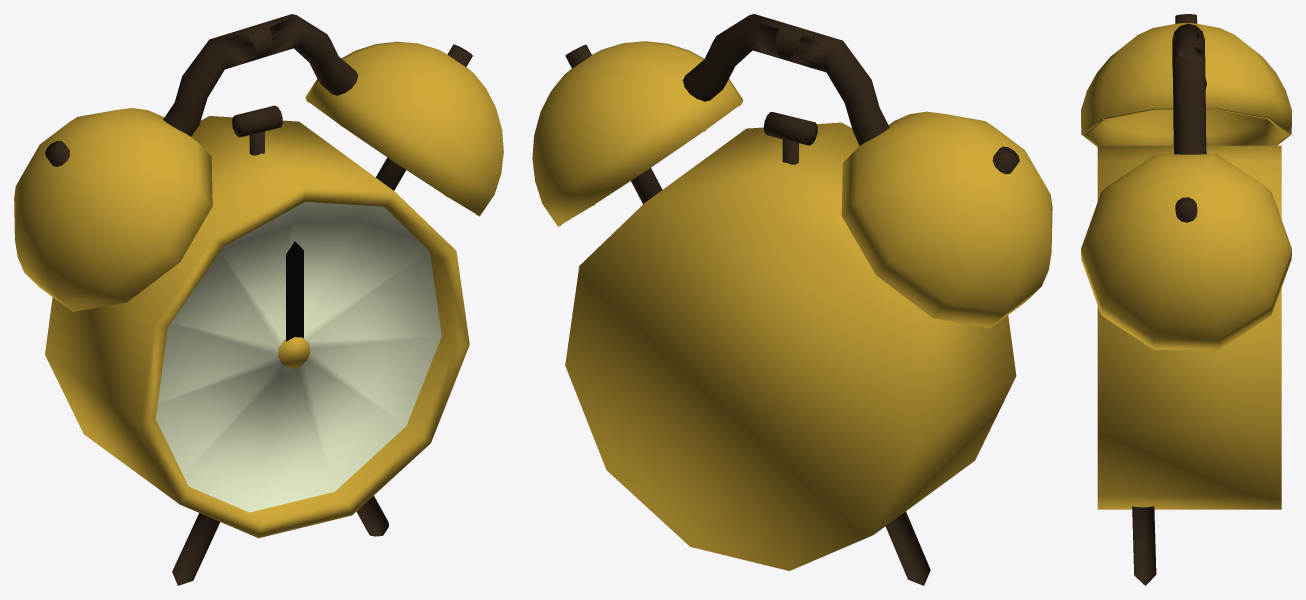
File: sat.fbx
3 renders of one model, left to right at view 1: azimuth 30°, elevation 25°; view 2: azimuth 150°, elevation 25°; view 3: azimuth 270°, elevation 25°, orthographic. The views are drawn at different scales.
Parts seen in each view (by area): view 1: Plane; view 2: Plane; view 3: Plane.
Boxes of the visible parts, left/top/right/bottom form: Plane: left=14, top=14, right=503, bottom=585; Plane: left=532, top=14, right=1052, bottom=585; Plane: left=1081, top=14, right=1291, bottom=585.
Bounding box in the file's own units: 25.21 × 27.18 × 10.43.
